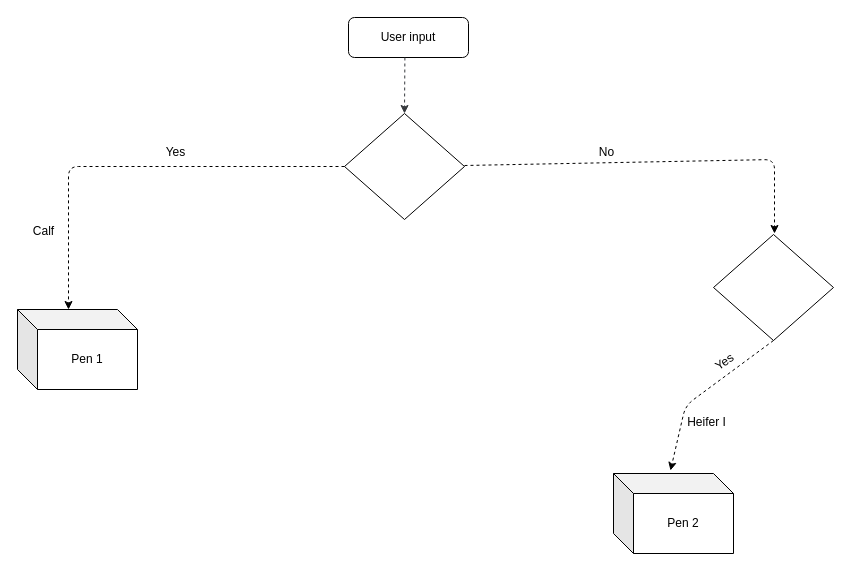
This 851x571 diagram has some shape labels left out. Here are the shapes that lost their labels. From the top down, the centre of each, then its label:
the point at 404,166: if age < = 4 months
the point at 773,287: if age > 4 months and <12 months
